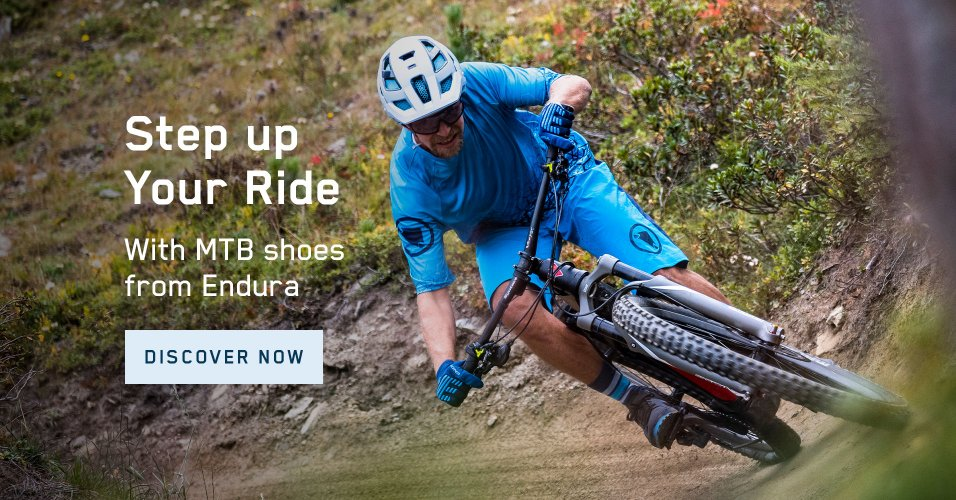helmet: (376, 35, 466, 161)
